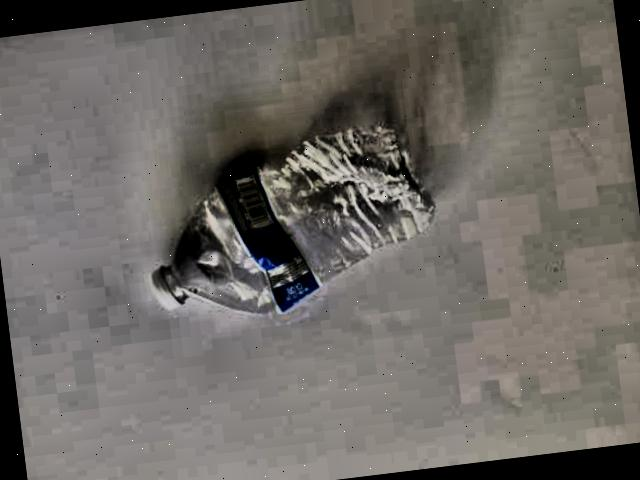Bottles: (111, 93, 472, 360)
